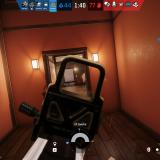Character: (83, 73, 87, 90)
